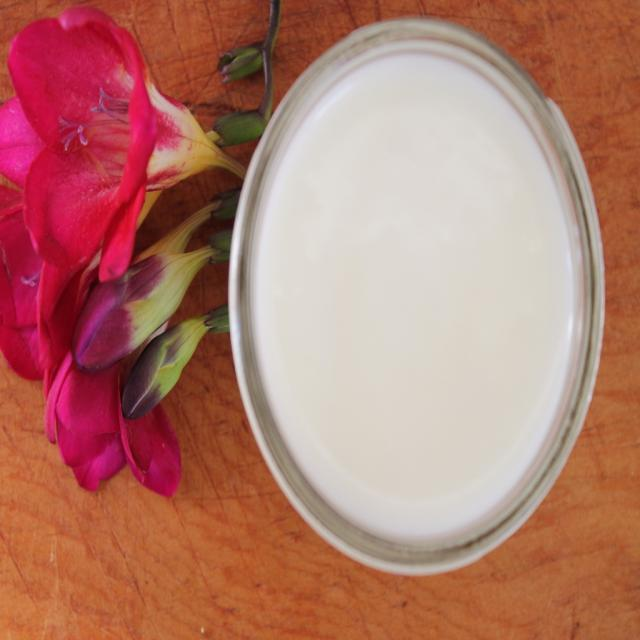non-organic waste: (244, 9, 595, 609)
